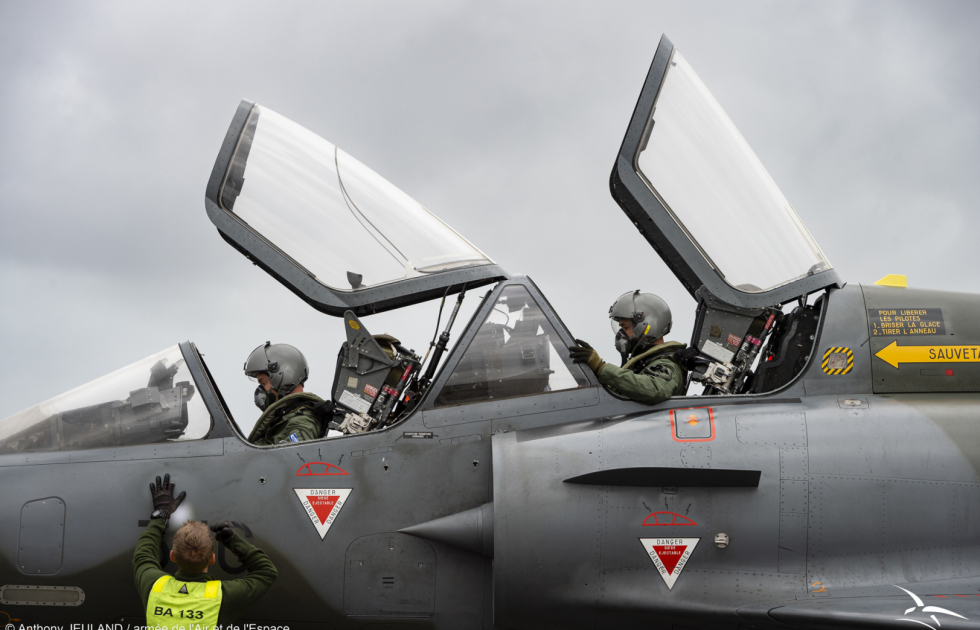Mirage2000: (1, 32, 980, 630)
